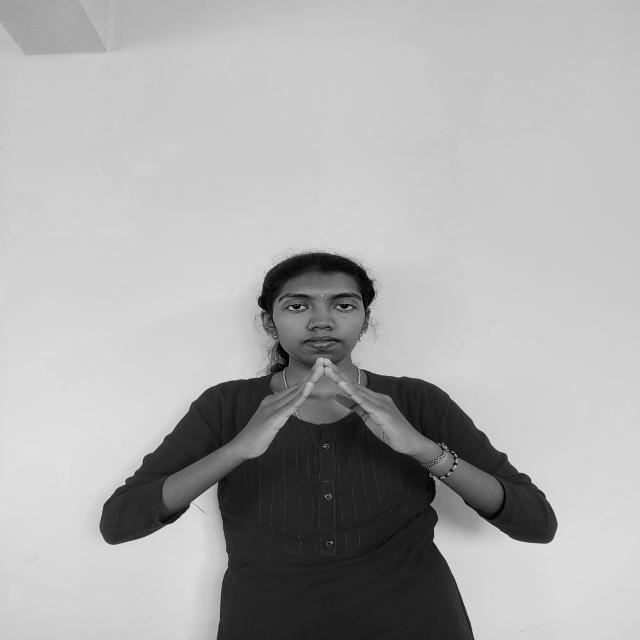Home: (214, 349, 438, 471)
